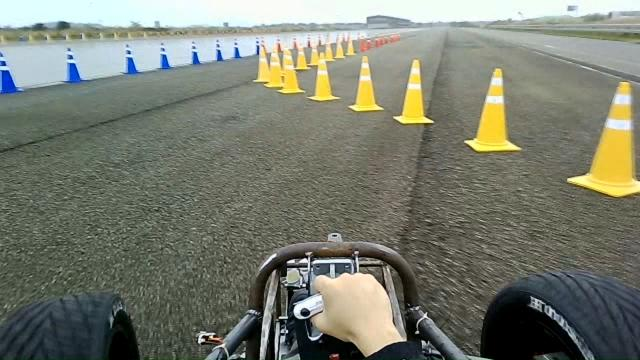yellow cone: (566, 80, 639, 198), (463, 66, 522, 152), (392, 58, 434, 125), (348, 55, 384, 112), (306, 58, 341, 102)
